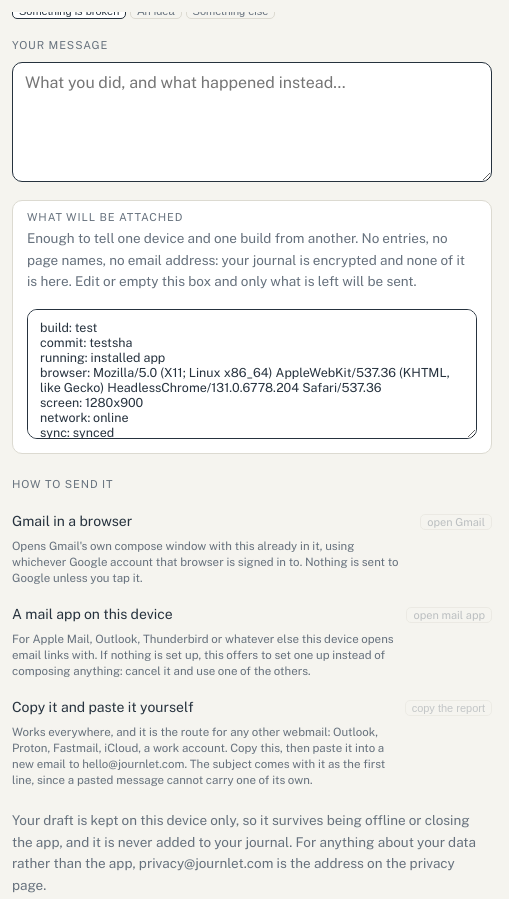
what it claims afterwards › the mail app note names the dead end that started all this
(page scrolled)
In the text box named "Your message": (252, 122) [12,62,492,182], type "a thought"
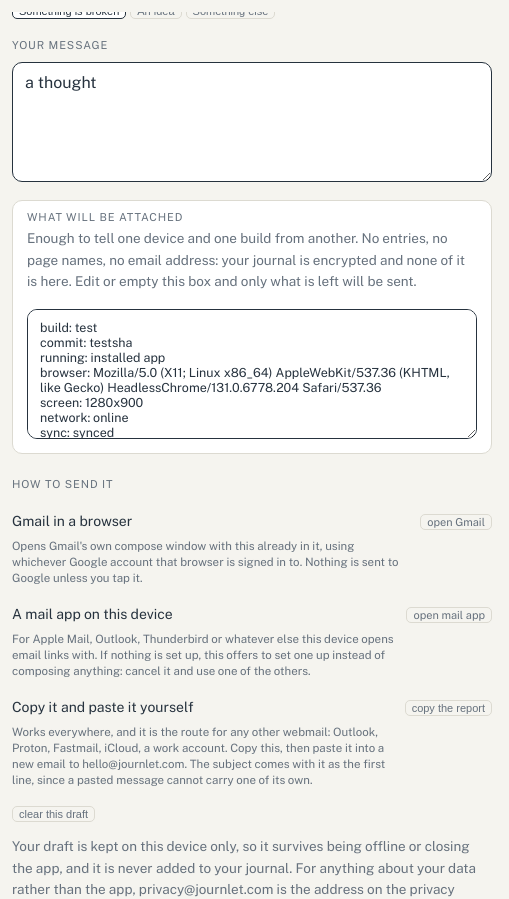
Click the link "open mail app": (449, 614) [406,606,492,622]
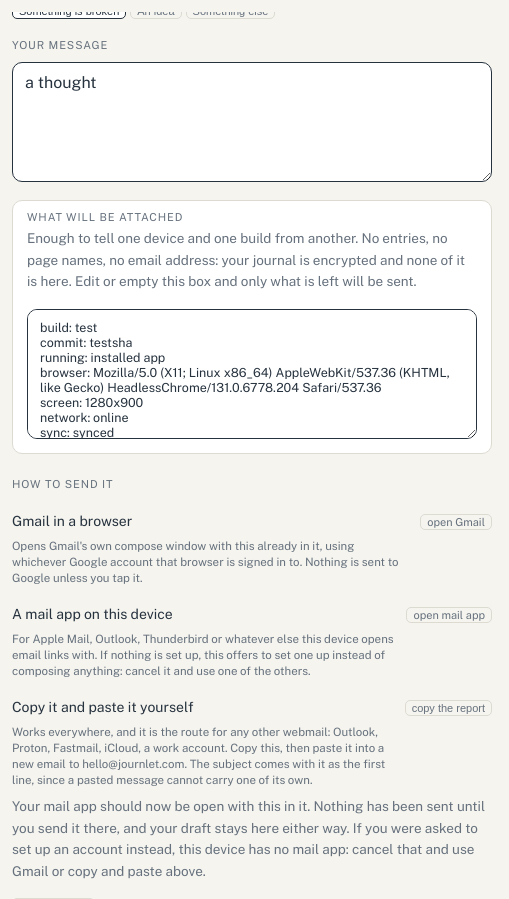
Check: the text "asked to set up an account instead" is shown, box [12,798,485,879]
